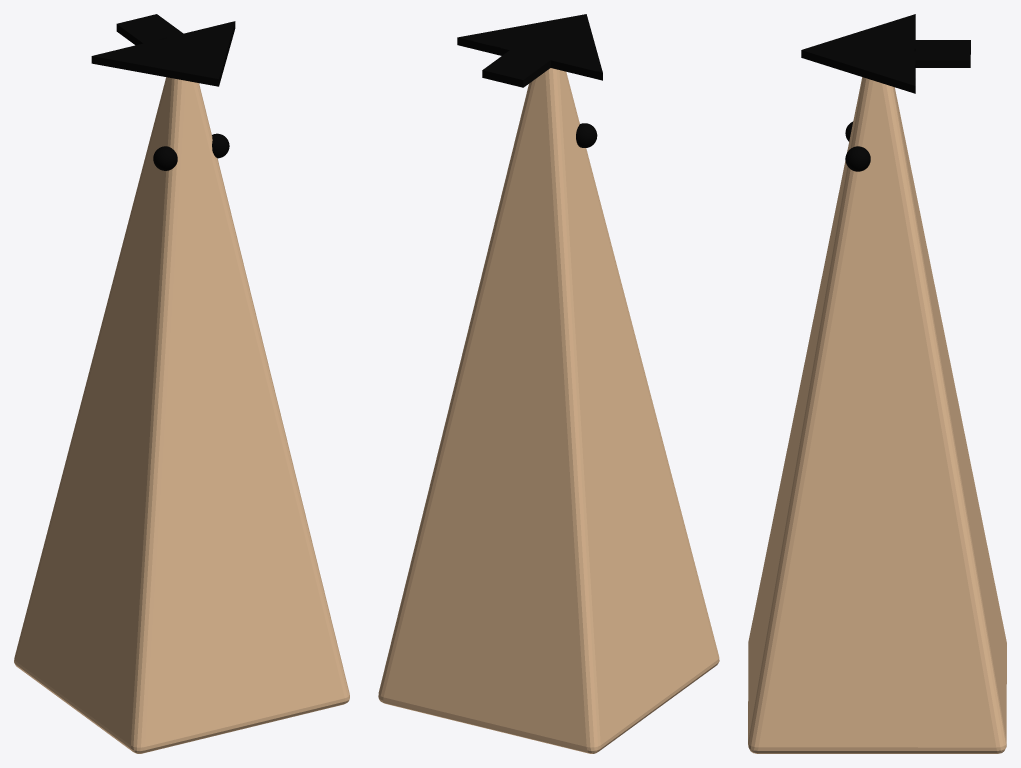
The model's file is 11newb.obj.
The picture shows the model from 3 angles, left to right: view 1: azimuth 30°, elevation 25°; view 2: azimuth 150°, elevation 25°; view 3: azimuth 270°, elevation 25°; orthographic projection. The views are drawn at different scales.
Parts seen in each view (by area): view 1: Cube.019_Cube.001, Cube.019_Cube.002; view 2: Cube.019_Cube.001, Cube.019_Cube.002; view 3: Cube.019_Cube.001, Cube.019_Cube.002.
Part boxes in pixels (left/top/right/bottom): Cube.019_Cube.001: left=14, top=77, right=349, bottom=753; Cube.019_Cube.002: left=91, top=14, right=235, bottom=170; Cube.019_Cube.001: left=378, top=68, right=719, bottom=753; Cube.019_Cube.002: left=457, top=14, right=602, bottom=147; Cube.019_Cube.001: left=748, top=77, right=1006, bottom=753; Cube.019_Cube.002: left=801, top=14, right=970, bottom=171.
Bounding box in the file's own units: 0.1763 × 0.4901 × 0.1763.
